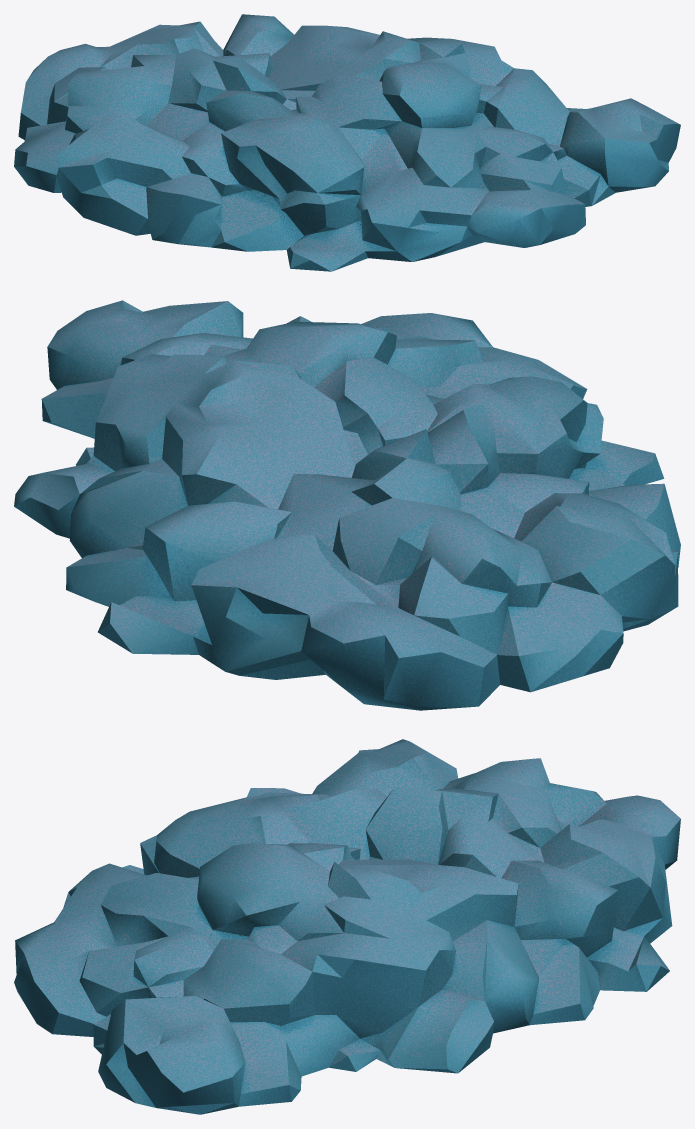
The model's file is rocks-group-1a-underwater.fbx.
3 renders of one model, top to bottom at view 1: azimuth 30°, elevation 25°; view 2: azimuth 150°, elevation 25°; view 3: azimuth 270°, elevation 25°, orthographic. The views are drawn at different scales.
Visible parts, largest first — view 1: Rocks_Group_01_02; view 2: Rocks_Group_01_02; view 3: Rocks_Group_01_02.
Part boxes in pixels (x1,y1,x2,y2): Rocks_Group_01_02: (14, 14, 680, 271); Rocks_Group_01_02: (14, 300, 680, 710); Rocks_Group_01_02: (14, 739, 680, 1114).
Size of the model in its own units: 317 by 62.97 by 283.
Materials: 1 (1 with a texture image).
